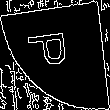P_E: (30, 33, 80, 77)
